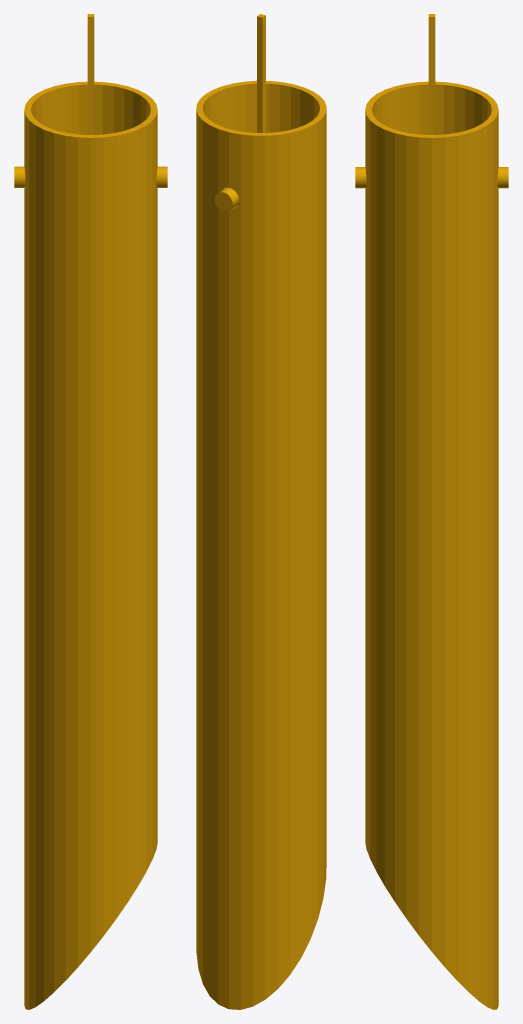
File: WindChimeOnly.fbx
3 views of the same model, side by side, from view 1: azimuth 90°, elevation 25°; view 2: azimuth 150°, elevation 25°; view 3: azimuth 270°, elevation 25° (orthographic). The views are drawn at different scales.
Visible parts, largest first — view 1: ChimeBaseN, ChimeStringN, ChimeDowelN; view 2: ChimeBaseN, ChimeStringN, ChimeDowelN; view 3: ChimeBaseN, ChimeStringN, ChimeDowelN.
Part boxes in pixels (left/top/right/bottom): ChimeBaseN: left=24, top=81, right=157, bottom=1009; ChimeStringN: left=87, top=14, right=94, bottom=134; ChimeDowelN: left=14, top=166, right=167, bottom=187; ChimeBaseN: left=196, top=80, right=326, bottom=1009; ChimeStringN: left=257, top=14, right=265, bottom=132; ChimeDowelN: left=214, top=187, right=239, bottom=211; ChimeBaseN: left=365, top=81, right=498, bottom=1009; ChimeStringN: left=428, top=14, right=435, bottom=134; ChimeDowelN: left=355, top=167, right=508, bottom=188.
Size of the model in its own units: 200 by 1637 by 230.
